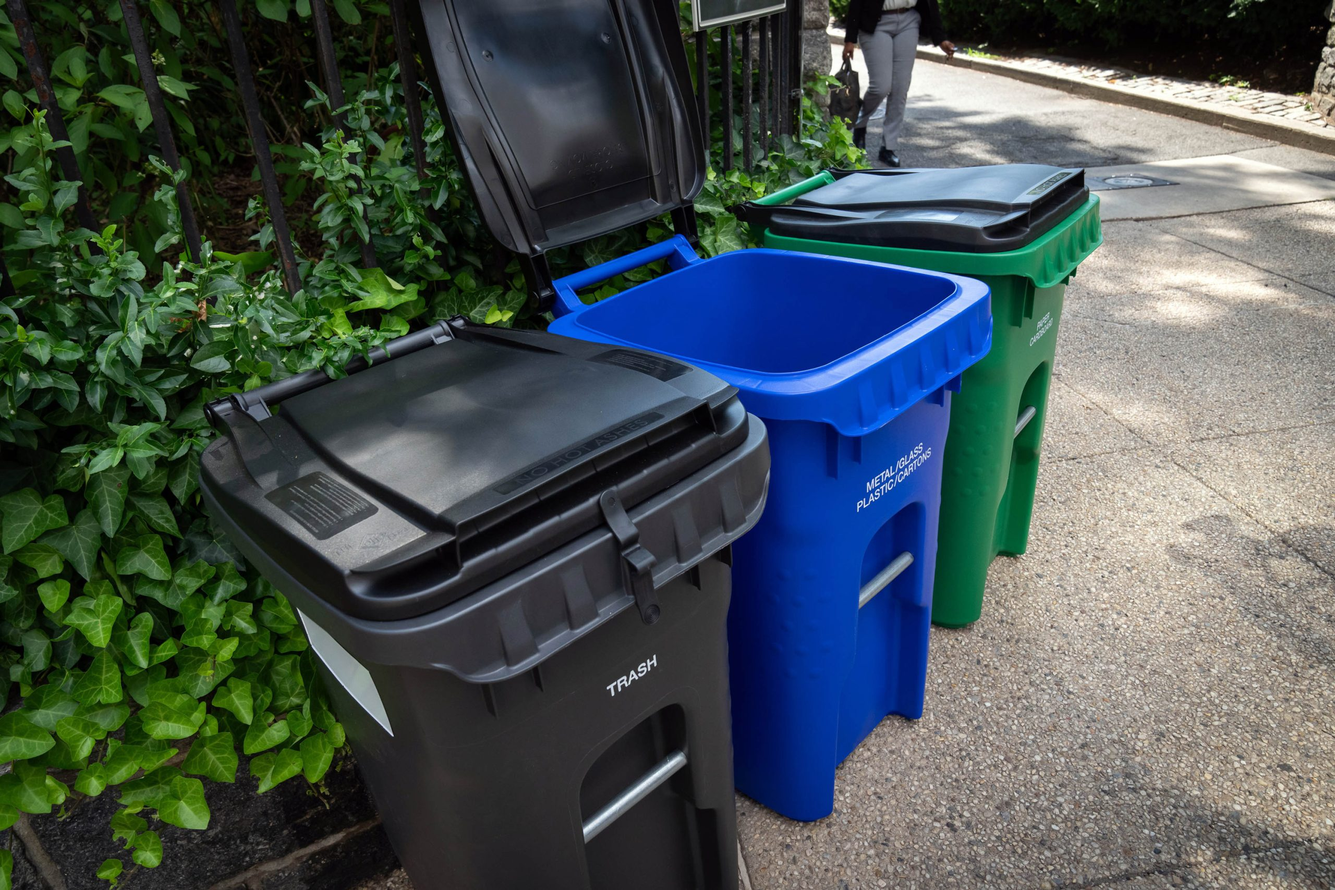TrashBin: (175, 326, 753, 885), (550, 220, 977, 820), (753, 123, 1085, 632)
